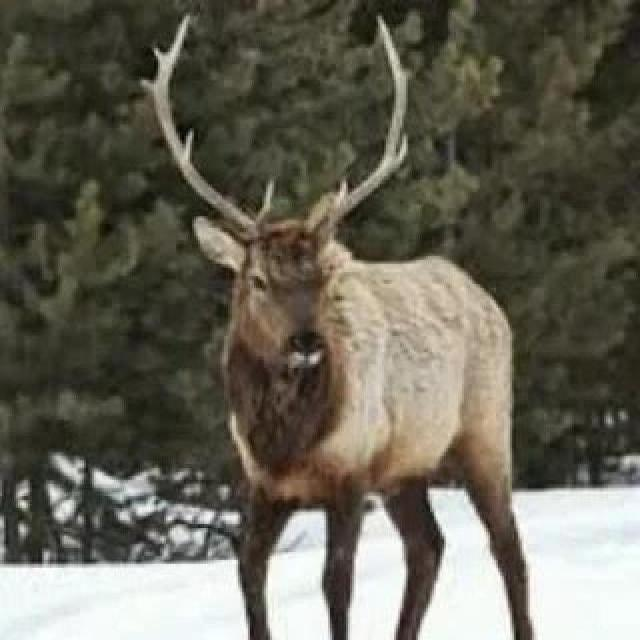deer: (86, 41, 568, 624)
